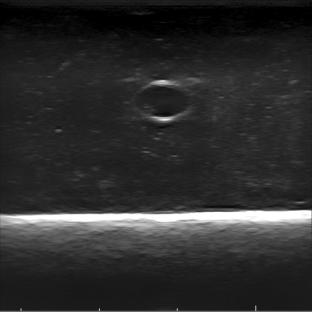vessel: (135, 78, 194, 122)
